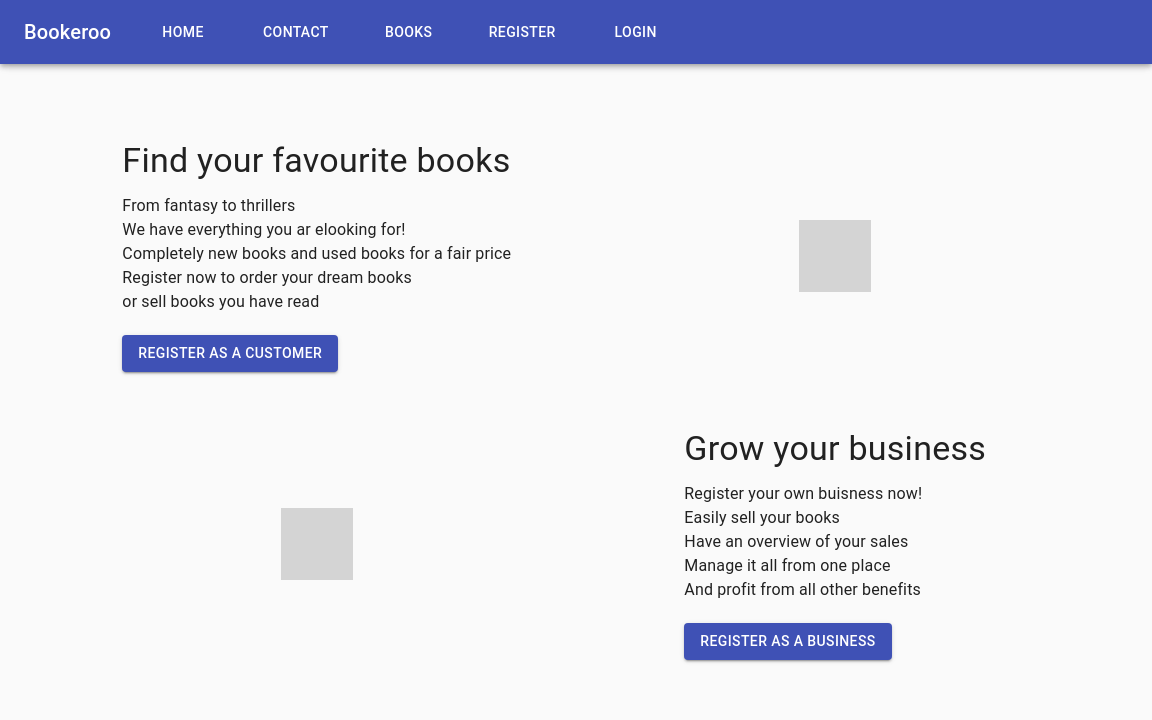
Home › Buttons › Button "Register as a business" should redirect to /register
Click the button "Register as a Business" at (788, 642), box [684,624,892,660]
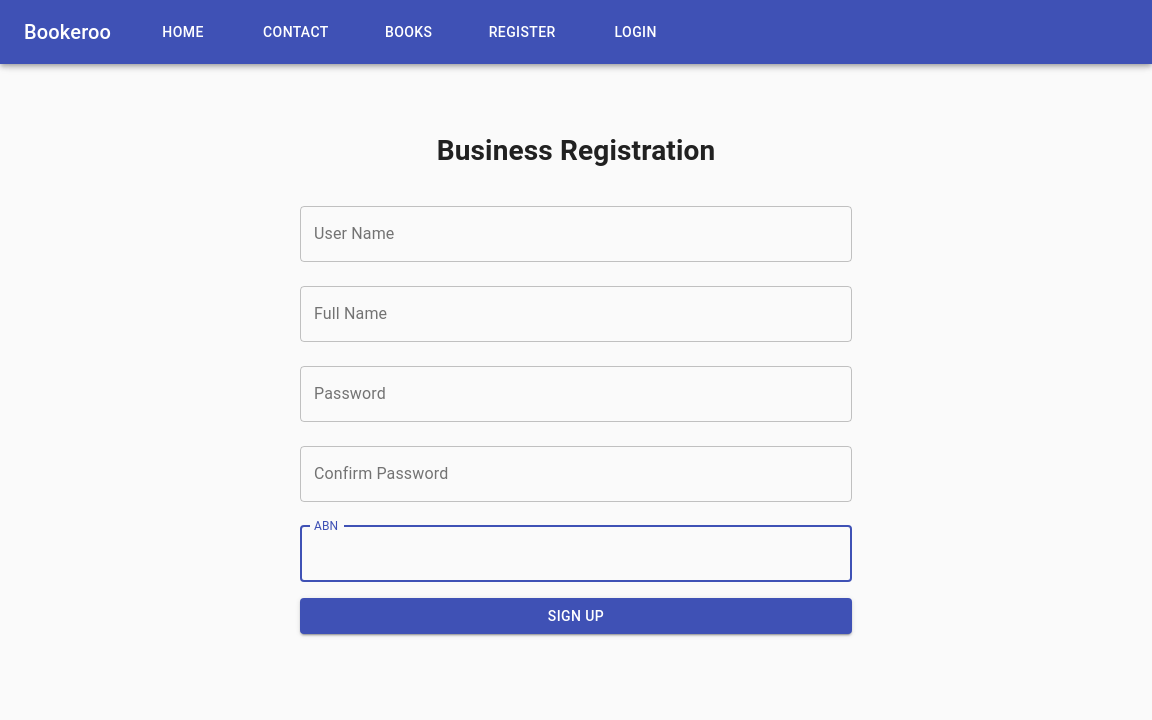
Check: the heading "Business Registration" is shown, box [437,134,715,167]
